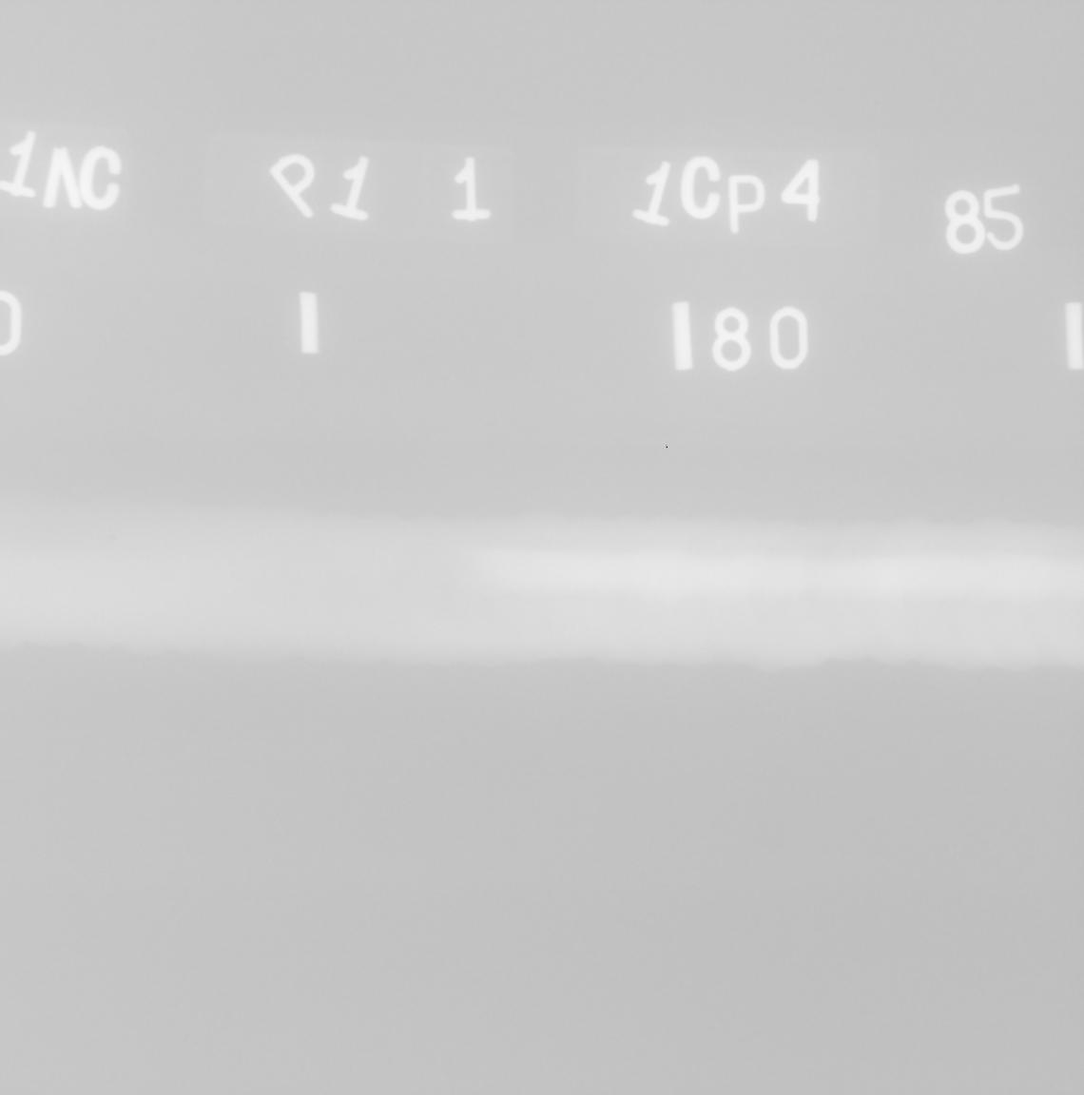Pore/Porosity: (480, 595, 491, 605), (107, 534, 117, 540)
